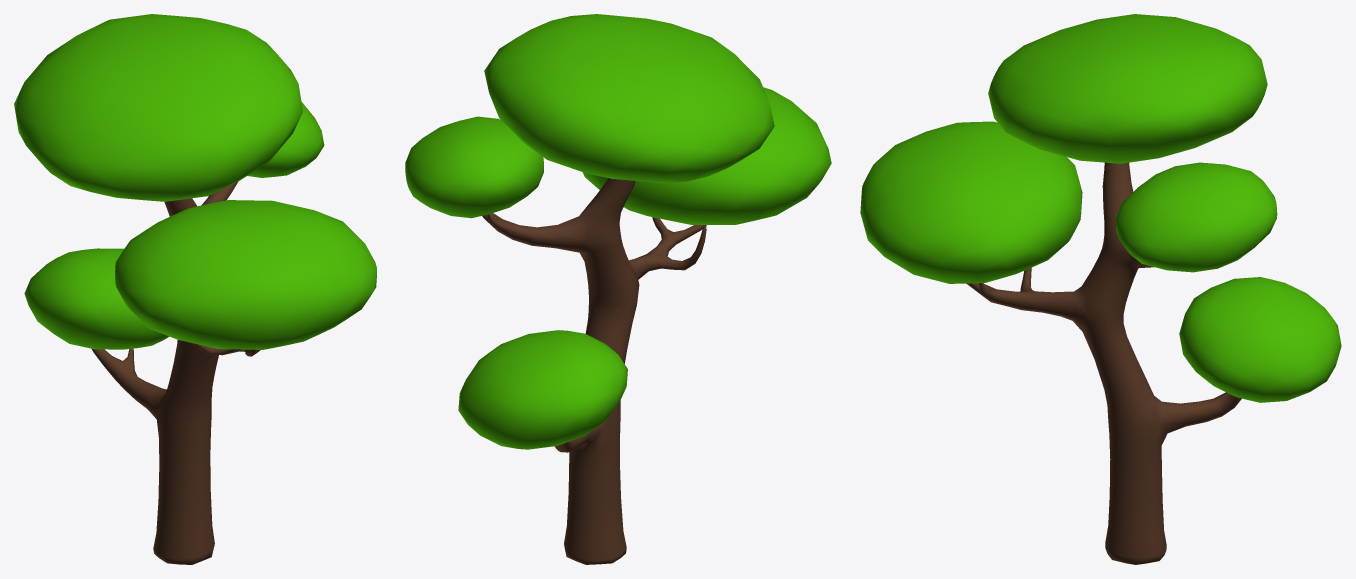
The model's file is Tree.fbx.
3 renders of one model, left to right at view 1: azimuth 30°, elevation 25°; view 2: azimuth 150°, elevation 25°; view 3: azimuth 270°, elevation 25°, orthographic.
Parts seen in each view (by area): view 1: Leaves1, Leaves2, Branch, Leaves4, Leaves3; view 2: Leaves1, Branch, Leaves4, Leaves2, Leaves3; view 3: Leaves1, Leaves2, Branch, Leaves4, Leaves3.
Part boxes in pixels (x1,y1,x2,y2): Leaves1: (14,14,302,201); Leaves2: (115,200,376,349); Branch: (91,181,260,564); Leaves4: (24,248,169,349); Leaves3: (247,102,324,177); Leaves1: (484,14,774,183); Branch: (482,178,706,564); Leaves4: (458,330,627,449); Leaves2: (583,87,831,224); Leaves3: (405,116,543,218); Leaves1: (988,14,1267,163); Leaves2: (860,121,1082,283); Branch: (966,162,1241,564); Leaves4: (1179,277,1341,402); Leaves3: (1115,162,1277,272).
Bounding box in the file's own units: 0.0127 × 0.0208 × 0.0177.
